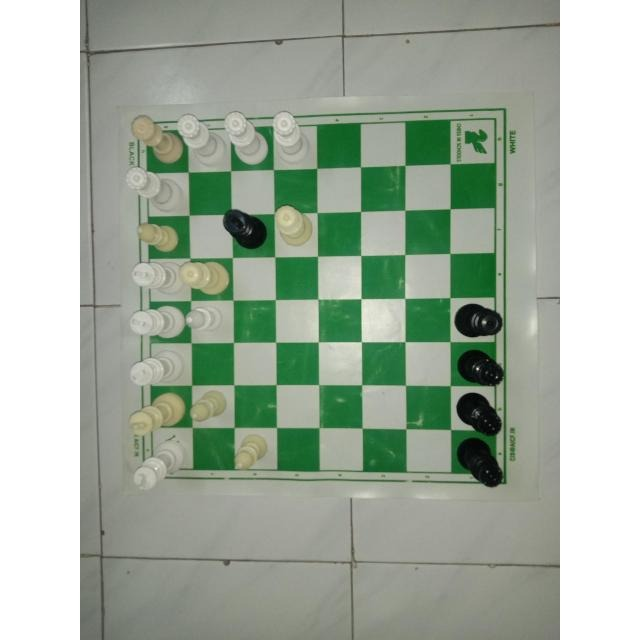black-king: (220, 207, 270, 251)
black-queen: (453, 434, 507, 491), (451, 390, 507, 438), (451, 296, 505, 340), (455, 346, 507, 390)
white-bishop: (135, 219, 183, 255), (181, 301, 228, 337), (187, 387, 230, 425), (230, 433, 272, 471)
white-king: (130, 436, 190, 493), (126, 390, 190, 437), (128, 348, 191, 387), (125, 304, 188, 341), (131, 260, 187, 298)
white-queen: (173, 113, 231, 170), (126, 114, 185, 168), (121, 166, 187, 214), (222, 108, 271, 172), (267, 109, 315, 167), (176, 252, 234, 297), (270, 202, 317, 252)
